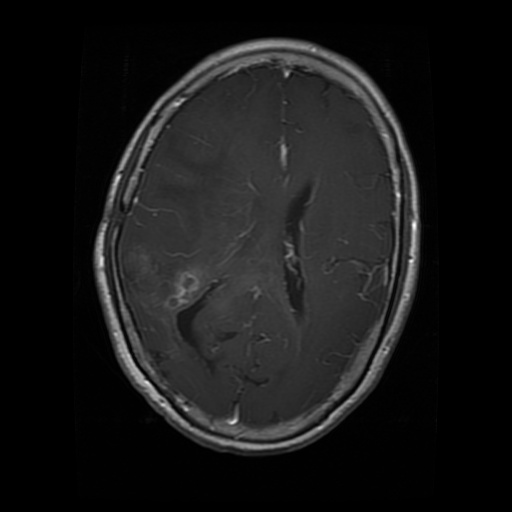glioma: (122, 247, 215, 312)
